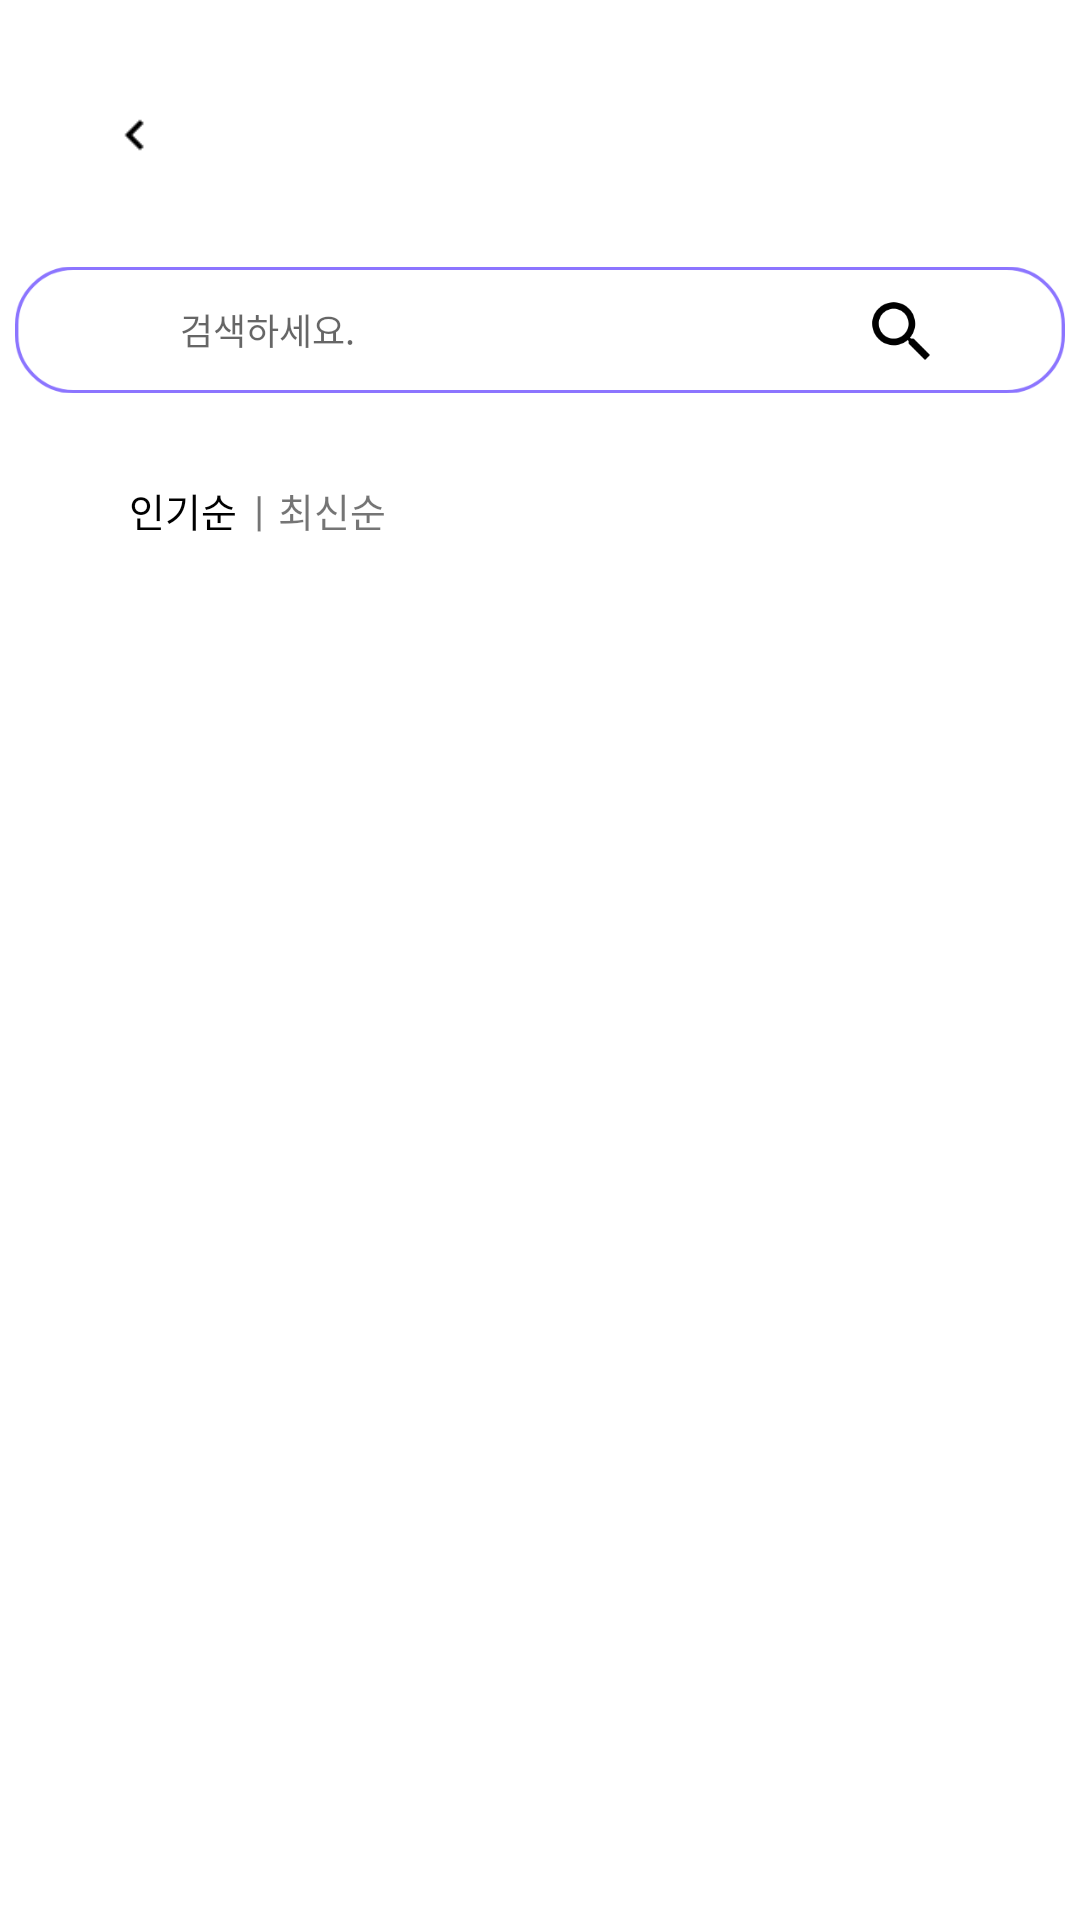

Locate icon controls on the screen. Image size 1080×1920, boxes as (x1, y1, x2, y2).
iconblackleft: (124, 119, 144, 151)
search: (872, 302, 930, 360)
